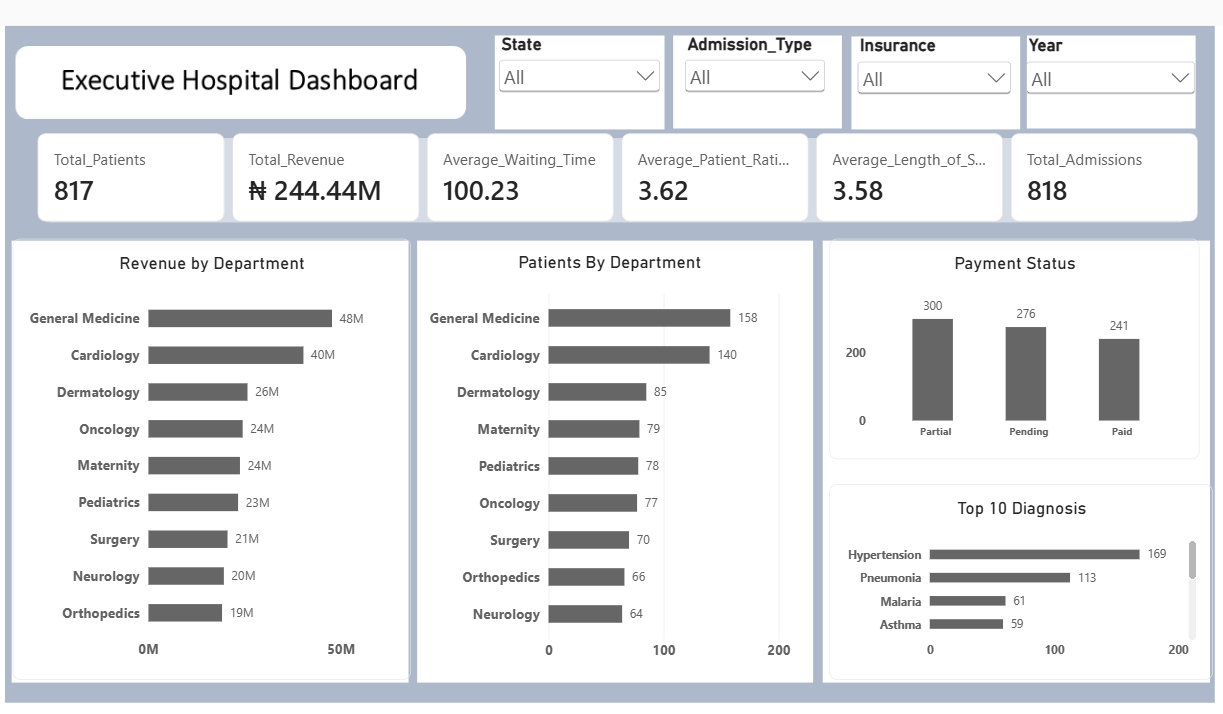

The dashboard page shown, as its layout file describes it:
{"tool":"powerbi","page":{"name":"Executive Dashboard","canvas":[1920,1080],"ordinal":0},"visuals":[{"type":"cardVisual","fields":{"Data":["clean_patient_hospital_data (2).Total_Patients","clean_patient_hospital_data (2).Total_Revenue","clean_patient_hospital_data (2).Average_Waiting_Time","clean_patient_hospital_data (2).Average_Patient_Rating","clean_patient_hospital_data (2).Average_Length_of_Stay","clean_patient_hospital_data (2).Total_Admissions"]},"box":[362.5,287.5,1212.5,92.5],"z":0},{"type":"barChart","title":"Revenue by Department","fields":{"Category":["clean_patient_hospital_data (2).Department"],"Y":["Sum(clean_patient_hospital_data (2).Total_Treatment_cost)"]},"box":[335,397.5,415,460],"z":1000},{"type":"barChart","title":"Patients By Department","fields":{"Category":["clean_patient_hospital_data (2).Department"],"Y":["CountNonNull(clean_patient_hospital_data (2).Patient_ID)"]},"box":[754,398,410,460],"z":2000},{"type":"clusteredBarChart","title":"Top 10 Diagnosis","fields":{"Category":["clean_patient_hospital_data (2).Diagnosis"],"Y":["CountNonNull(clean_patient_hospital_data (2).Diagnosis)"]},"box":[1188,654,400,204],"z":4000},{"type":"columnChart","title":"Payment Status","fields":{"Category":["clean_patient_hospital_data (2).Payment_Status"],"Y":["CountNonNull(clean_patient_hospital_data (2).Payment_Status)"]},"box":[1188,398,386,230],"z":5000},{"type":"slicer","fields":{"Values":["clean_patient_hospital_data (2).State"]},"box":[838,184,178,104],"z":6000},{"type":"slicer","fields":{"Values":["clean_patient_hospital_data (2).Admission_Type"]},"box":[1032,184,156,90],"z":7000},{"type":"slicer","fields":{"Values":["clean_patient_hospital_data (2).Insurance"]},"box":[1212,186,170,90],"z":8000},{"type":"slicer","fields":{"Values":["clean_patient_hospital_data (2).Discharge_Date.Variation.Date Hierarchy.Year"]},"box":[1388,186,186,88],"z":9000}]}

Visuals, with their boxes on the page's 1920x1080 design canvas (x1, y1, x2, y2). These are canvas units, not pixel positions in the 1223x714 screenshot, which may show the page scaled, cropped or inside an application window:
cardVisual - clean_patient_hospital_data (2).Total_Patients x clean_patient_hospital_data (2).Total_Revenue: [362, 288, 1575, 380]
"Revenue by Department" barChart: [335, 398, 750, 858]
"Patients By Department" barChart: [754, 398, 1164, 858]
"Top 10 Diagnosis" clusteredBarChart: [1188, 654, 1588, 858]
"Payment Status" columnChart: [1188, 398, 1574, 628]
slicer - clean_patient_hospital_data (2).State: [838, 184, 1016, 288]
slicer - clean_patient_hospital_data (2).Admission_Type: [1032, 184, 1188, 274]
slicer - clean_patient_hospital_data (2).Insurance: [1212, 186, 1382, 276]
slicer - clean_patient_hospital_data (2).Discharge_Date.Variation.Date Hierarchy.Year: [1388, 186, 1574, 274]
